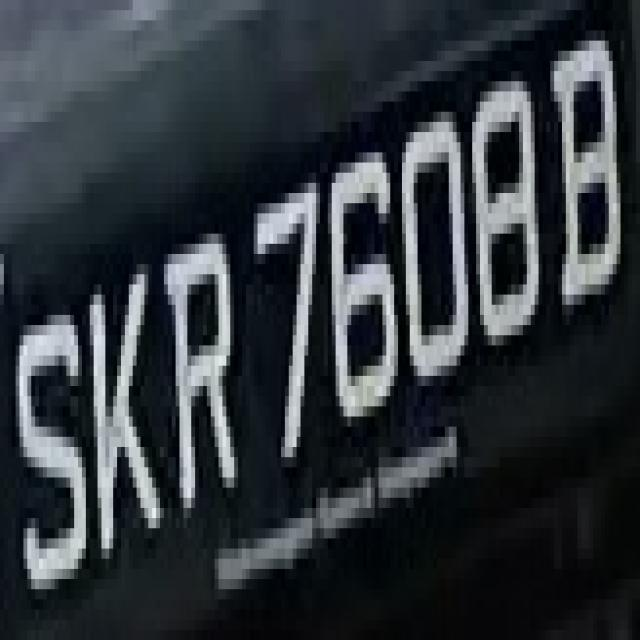0: (391, 112, 468, 396)
6: (320, 132, 406, 467)
7: (254, 193, 324, 488)
8: (461, 81, 554, 356)
B: (542, 10, 624, 315)
K: (90, 264, 160, 589)
R: (164, 214, 246, 528)
S: (15, 274, 86, 610)
